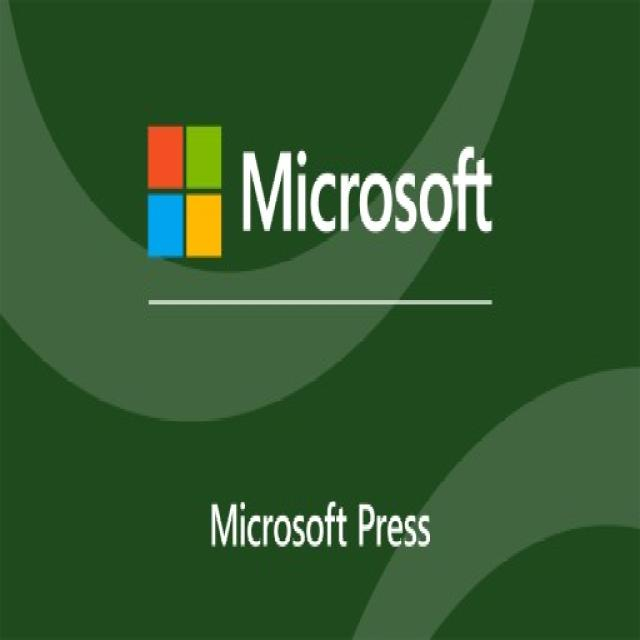microsoft: (148, 126, 222, 258)
microsoft_txt: (242, 144, 493, 232), (210, 500, 347, 548)
